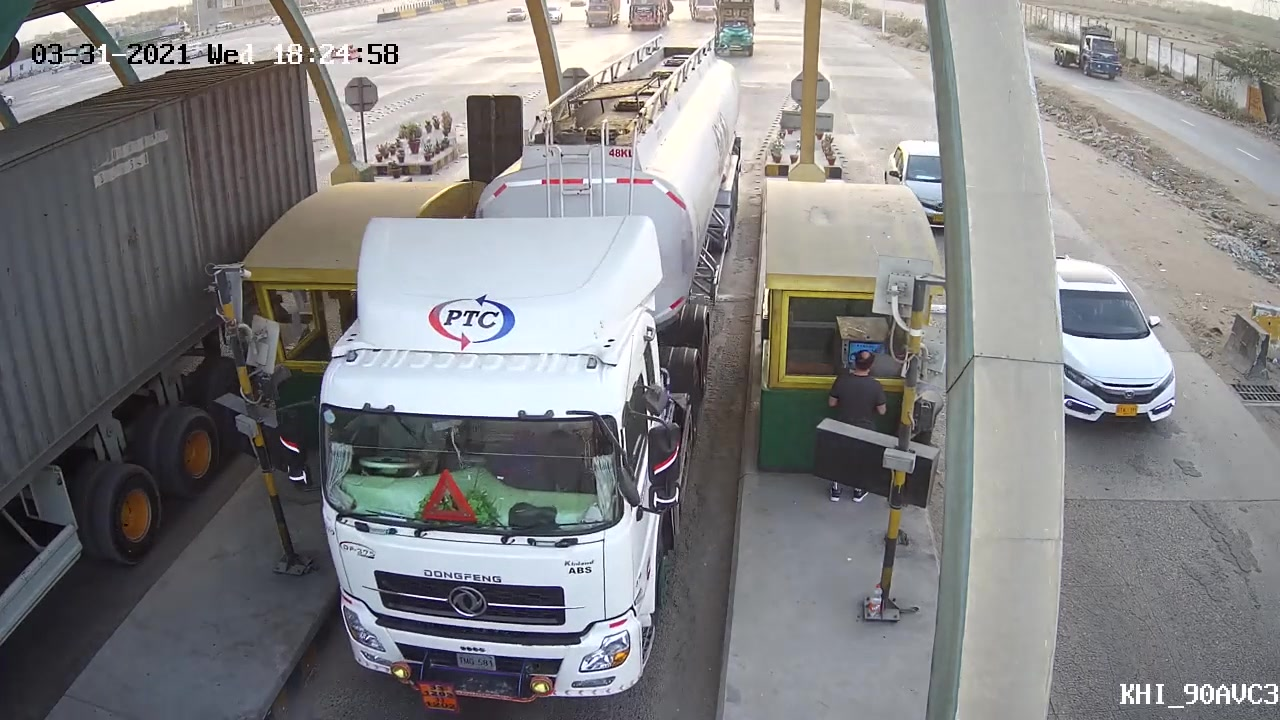F6: (270, 33, 751, 717)
